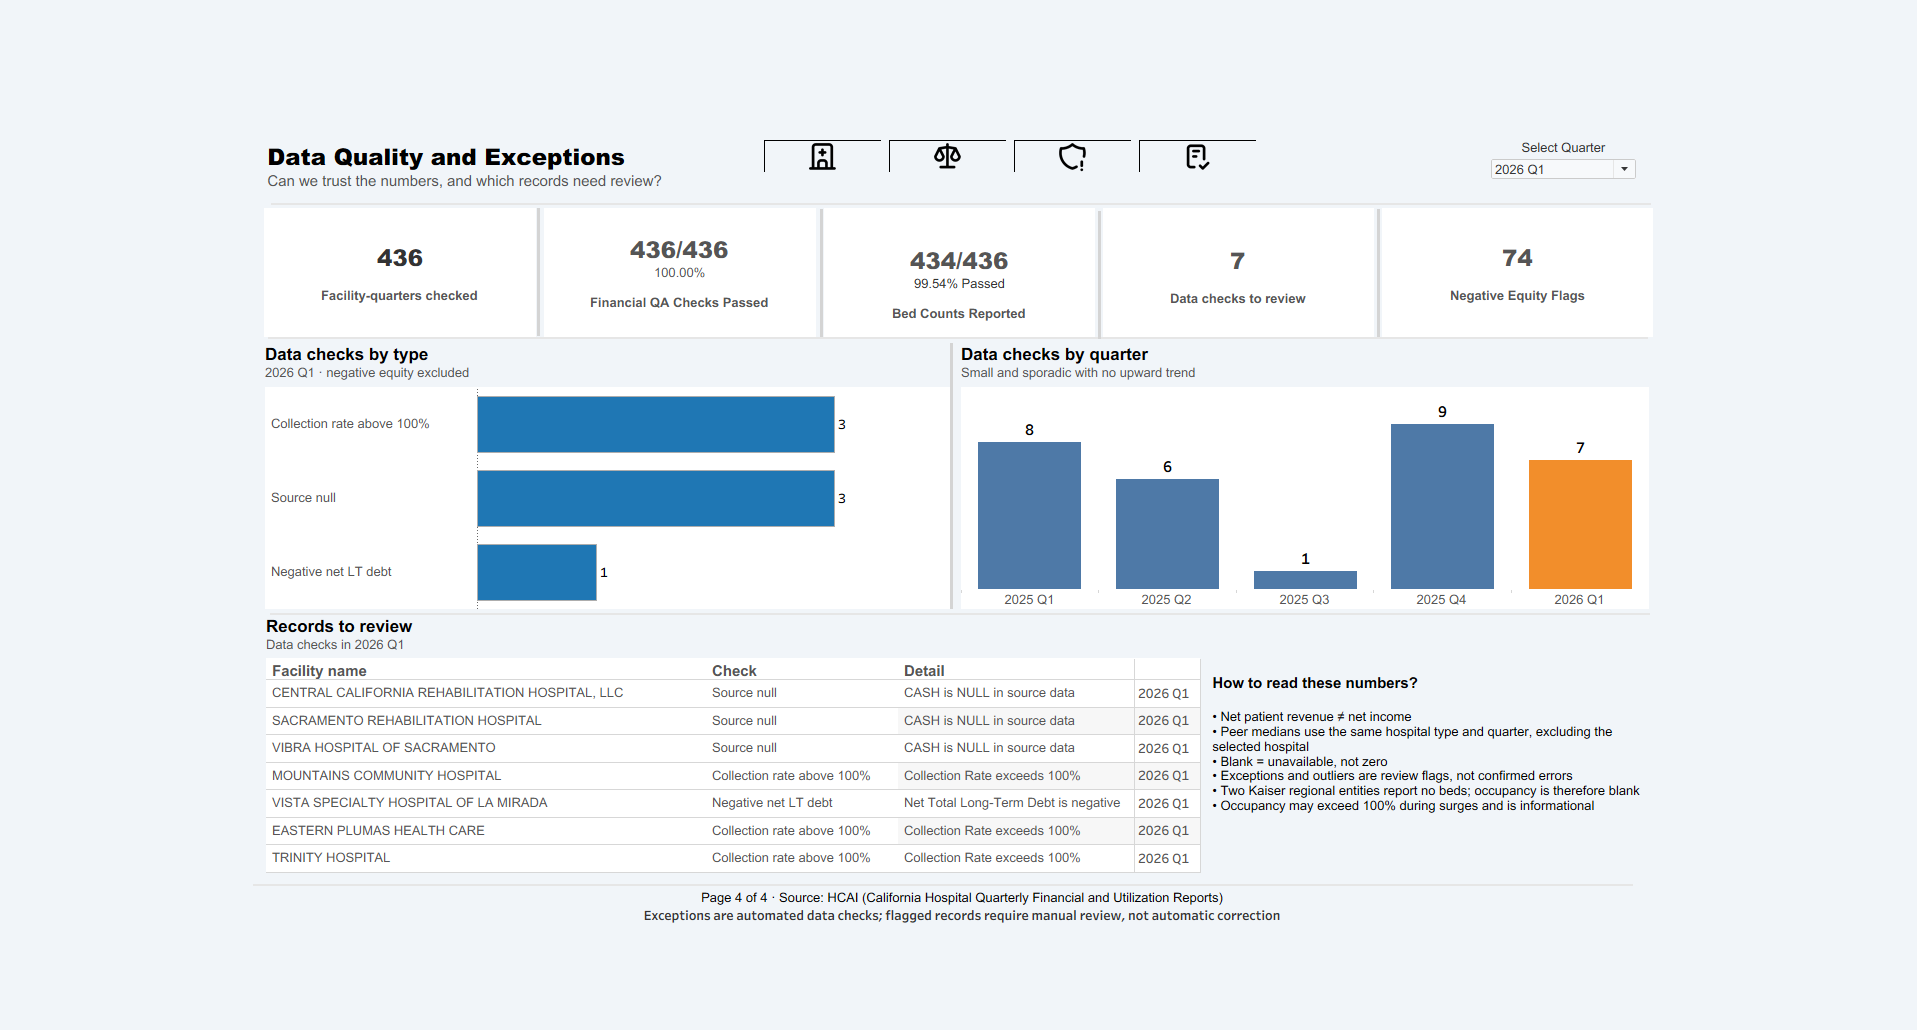

What the dashboard file says about the page in this screenshot:
{"tool":"tableau","page":{"name":"Data Quality & Exceptions","canvas":[1400,800],"ordinal":0},"visuals":[{"type":"text","box":[0,0,1400,87]},{"type":"dashboard-object","box":[500,15,125,40]},{"type":"dashboard-object","box":[625,15,125,40]},{"type":"dashboard-object","box":[750,15,125,40]},{"type":"dashboard-object","box":[875,15,125,40]},{"type":"parameter","param":"[Parameters].[Parameter 1784005467074563]","box":[1224,15,159,50]},{"type":"blank","box":[7,78,1388,10]},{"type":"worksheet","title":"KPI - Facility-quarters checked","mark":"Automatic","box":[0,83,280,137]},{"type":"blank","box":[273,83,11,136]},{"type":"worksheet","title":"KPI - Balance sheet reconciles","mark":"Automatic","box":[280,83,280,137]},{"type":"worksheet","title":"KPI - Bed counts reported","mark":"Text","box":[560,83,279,137]},{"type":"worksheet","title":"KPI - Data checks to review","mark":"Text","box":[839,83,279,137]},{"type":"worksheet","title":"KPI - Financial condition","mark":"Automatic","box":[1118,83,279,137]},{"type":"blank","box":[556,84,11,136]},{"type":"blank","box":[1113,84,11,136]},{"type":"blank","box":[834,86,11,136]},{"type":"blank","box":[0,87,1400,667]},{"type":"blank","box":[4,212,1388,10]},{"type":"worksheet","title":"DQ - Checks by Type","mark":"Bar","rows":["CHECK_TXT"],"cols":["FAC_NO (VW_DQ_EXCEPTIONS)"],"box":[1,220,696,272]},{"type":"worksheet","title":"DQ - Checks by Quarter","mark":"Bar","rows":["FAC_NO (VW_DQ_EXCEPTIONS)"],"cols":["QUARTER_TXT"],"box":[697,220,696,272]},{"type":"blank","box":[686,230,11,250]},{"type":"blank","box":[6,488,1388,10]},{"type":"worksheet","title":"DQ - Records to Review","mark":"Text","rows":["WATCH_RANK","FAC_NAME (VW_DQ_EXCEPTIONS)","CHECK_TXT","EXCEPTION_DETAIL"],"box":[2,492,943,264]},{"type":"text","box":[945,492,445,264]}]}

Visuals, with their boxes on the page's 1400x800 design canvas (x1, y1, x2, y2). These are canvas units, not pixel positions in the 1917x1030 screenshot, which may show the page scaled, cropped or inside an application window:
text: detection(0, 0, 1400, 87)
dashboard-object: detection(500, 15, 625, 55)
dashboard-object: detection(625, 15, 750, 55)
dashboard-object: detection(750, 15, 875, 55)
dashboard-object: detection(875, 15, 1000, 55)
parameter: detection(1224, 15, 1383, 65)
blank: detection(7, 78, 1395, 88)
"KPI - Facility-quarters checked" worksheet: detection(0, 83, 280, 220)
blank: detection(273, 83, 284, 219)
"KPI - Balance sheet reconciles" worksheet: detection(280, 83, 560, 220)
"KPI - Bed counts reported" worksheet (Text marks): detection(560, 83, 839, 220)
"KPI - Data checks to review" worksheet (Text marks): detection(839, 83, 1118, 220)
"KPI - Financial condition" worksheet: detection(1118, 83, 1397, 220)
blank: detection(556, 84, 567, 220)
blank: detection(1113, 84, 1124, 220)
blank: detection(834, 86, 845, 222)
blank: detection(0, 87, 1400, 754)
blank: detection(4, 212, 1392, 222)
"DQ - Checks by Type" worksheet (Bar marks): detection(1, 220, 697, 492)
"DQ - Checks by Quarter" worksheet (Bar marks): detection(697, 220, 1393, 492)
blank: detection(686, 230, 697, 480)
blank: detection(6, 488, 1394, 498)
"DQ - Records to Review" worksheet (Text marks): detection(2, 492, 945, 756)
text: detection(945, 492, 1390, 756)
